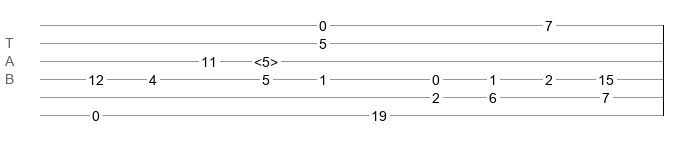0: (92, 108, 100, 118), (319, 18, 327, 28), (432, 72, 440, 82)
1: (319, 72, 327, 82), (489, 72, 497, 82)
11: (201, 54, 217, 64)
12: (88, 72, 104, 82)
15: (598, 72, 614, 82)
19: (371, 108, 387, 118)
2: (432, 90, 440, 100), (545, 72, 553, 82)
4: (149, 72, 157, 82)
5: (262, 72, 270, 82), (319, 36, 327, 46)
6: (489, 90, 497, 100)
7: (545, 18, 553, 28), (602, 90, 610, 100)
harmonic: (254, 54, 278, 64)
